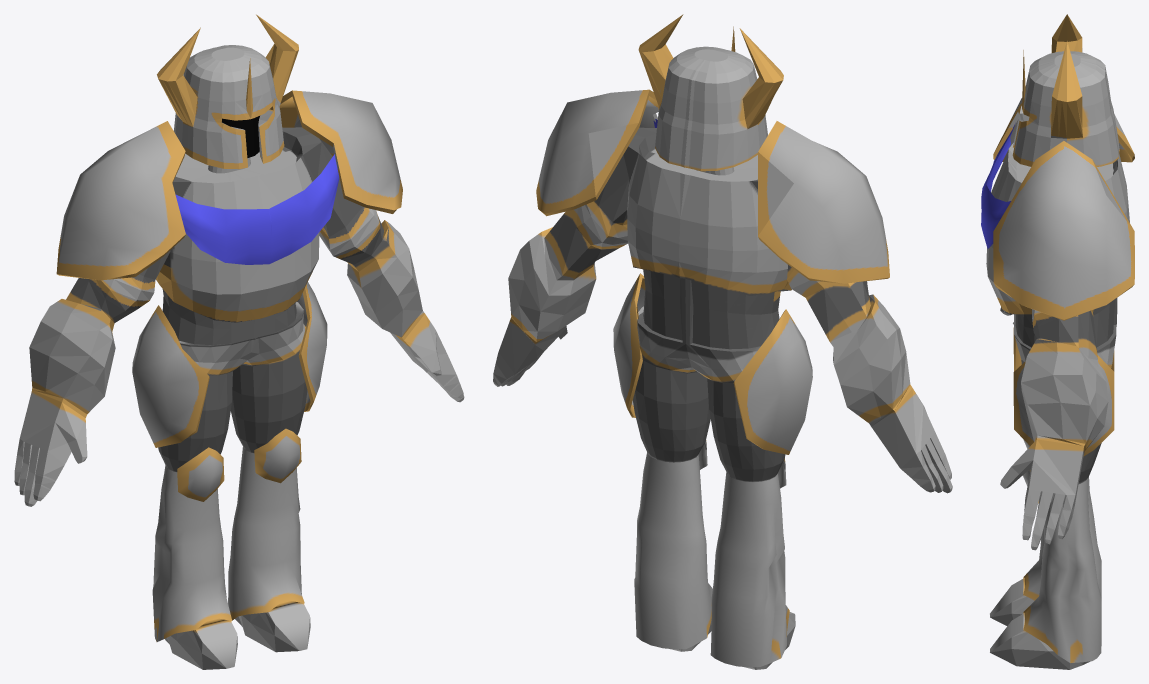
Rendered from Knight2.fbx.
3 renders of one model, left to right at view 1: azimuth 30°, elevation 25°; view 2: azimuth 150°, elevation 25°; view 3: azimuth 270°, elevation 25°, orthographic. The views are drawn at different scales.
Visible parts, largest first — view 1: Knight_Body; view 2: Knight_Body; view 3: Knight_Body.
Boxes of the visible parts, x1=… form: Knight_Body: x1=14, y1=14, x2=464, y2=669; Knight_Body: x1=493, y1=14, x2=952, y2=669; Knight_Body: x1=981, y1=14, x2=1134, y2=669.
Size of the model in its own units: 67.7 by 91.71 by 20.74.
1 material, 1 textured.
